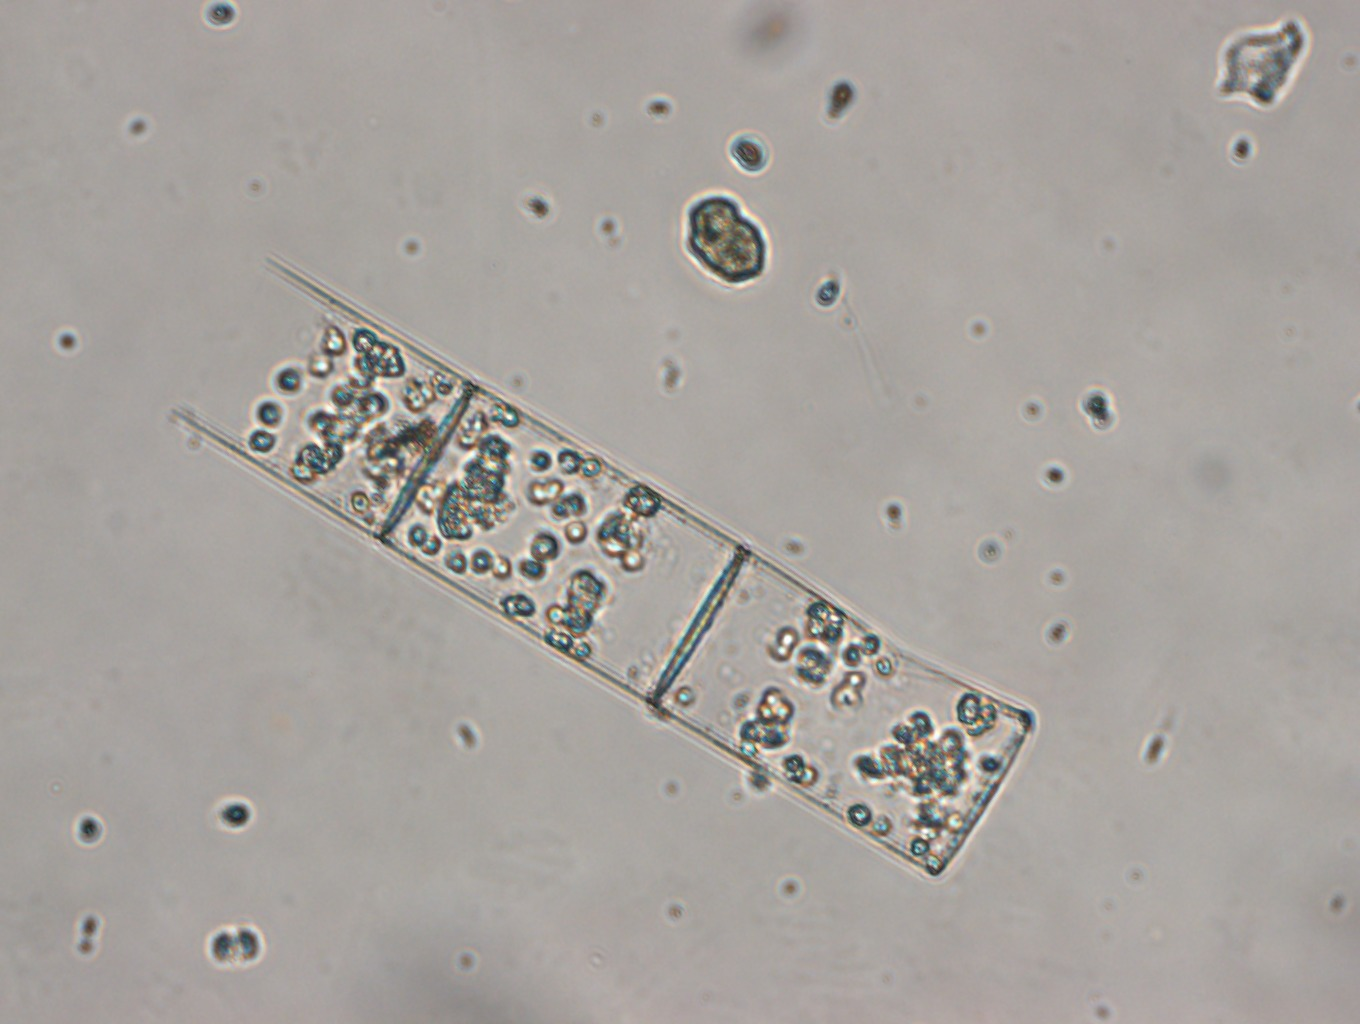guinardia flaccida: (186, 259, 1046, 891)
